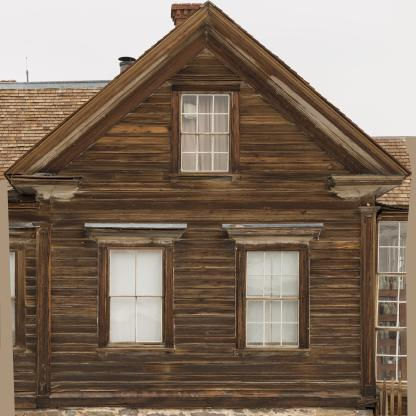Building Outline: (0, 0, 412, 416)
Facade: (15, 131, 363, 416)
Floor Slab: (37, 188, 374, 194)
Ground Floor: (8, 191, 408, 416)
Roof: (0, 87, 104, 181), (373, 139, 412, 173), (376, 174, 412, 205)
Top Floor: (37, 50, 374, 187)
Window: (107, 249, 165, 345), (375, 216, 408, 383), (246, 251, 300, 347), (179, 92, 232, 174), (9, 250, 17, 348)
